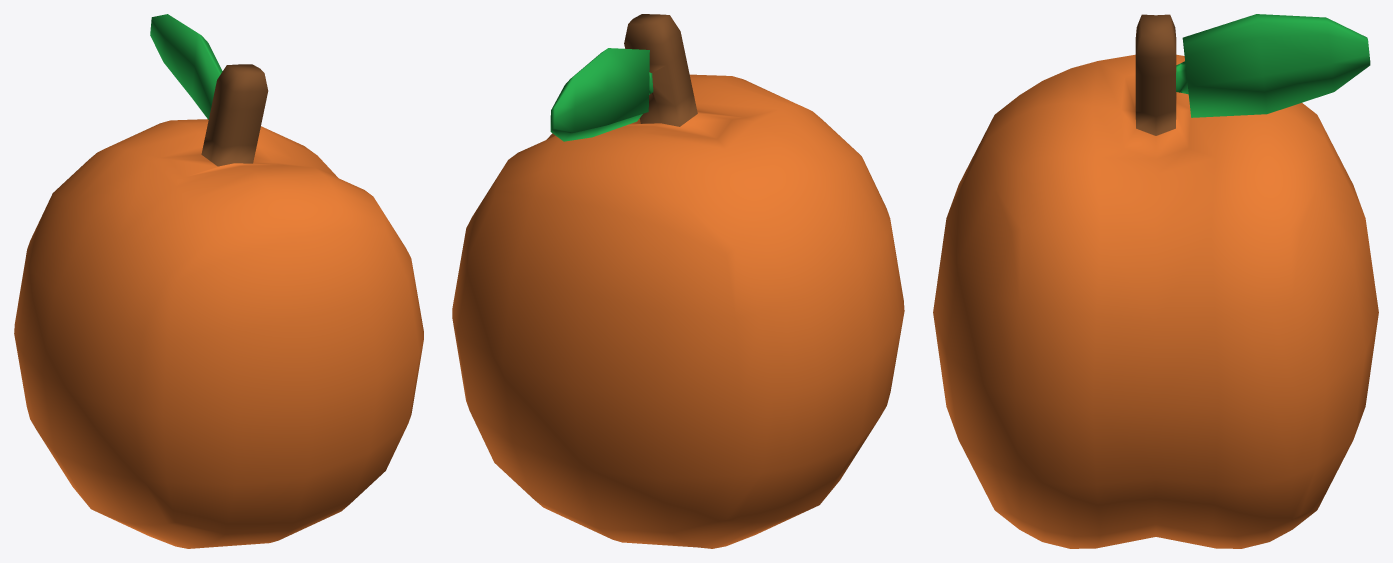
File: Asset_07_durazno.fbx
3 views of the same model, side by side, from view 1: azimuth 30°, elevation 25°; view 2: azimuth 150°, elevation 25°; view 3: azimuth 270°, elevation 25° (orthographic). The views are drawn at different scales.
Visible parts, largest first — view 1: Cube; view 2: Cube; view 3: Cube.
Part boxes in pixels (x1,y1,x2,y2): Cube: (14, 14, 423, 548); Cube: (452, 14, 904, 548); Cube: (933, 14, 1378, 548).
Size of the model in its own units: 209 by 264 by 201.
